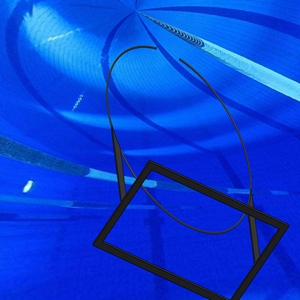circle: (92, 43, 290, 299)
